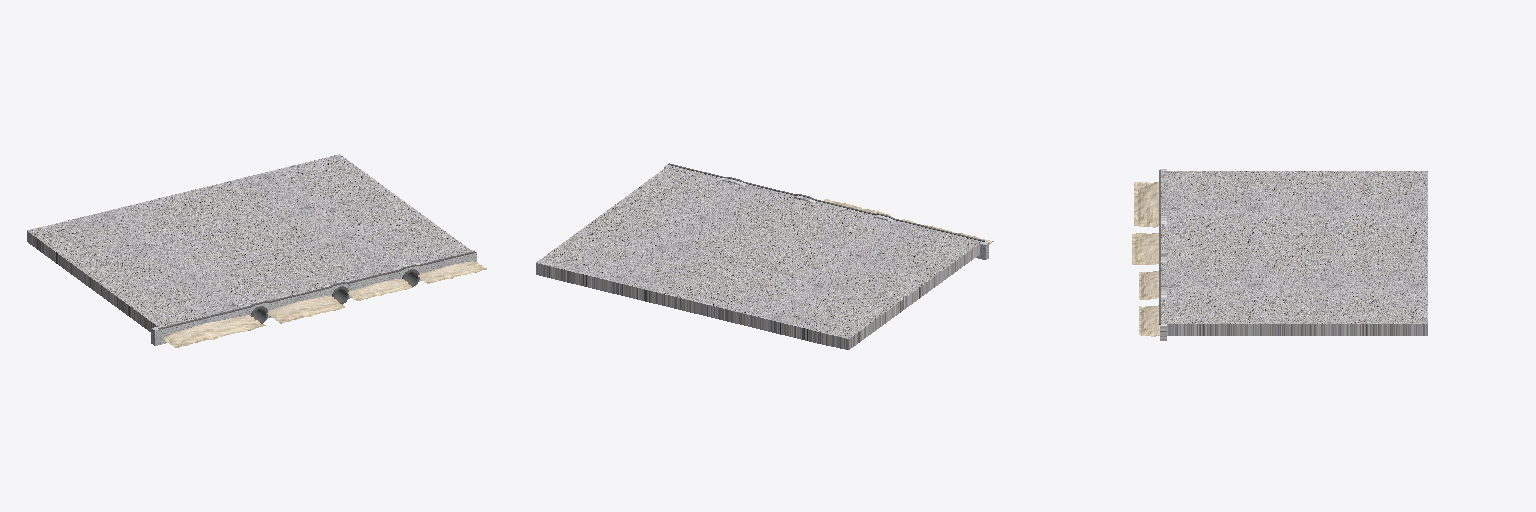
3 views of the same model, side by side, from view 1: azimuth 30°, elevation 25°; view 2: azimuth 150°, elevation 25°; view 3: azimuth 270°, elevation 25° (orthographic).
Visible parts, largest first — view 1: Object.1; view 2: Object.1; view 3: Object.1.
Part boxes in pixels (x1,y1,x2,y2): Object.1: (27, 154, 486, 347); Object.1: (536, 163, 993, 349); Object.1: (1132, 169, 1427, 340).
Bounding box in the file's own units: 368 × 23.28 × 294.
Materials: 4 (3 with a texture image).